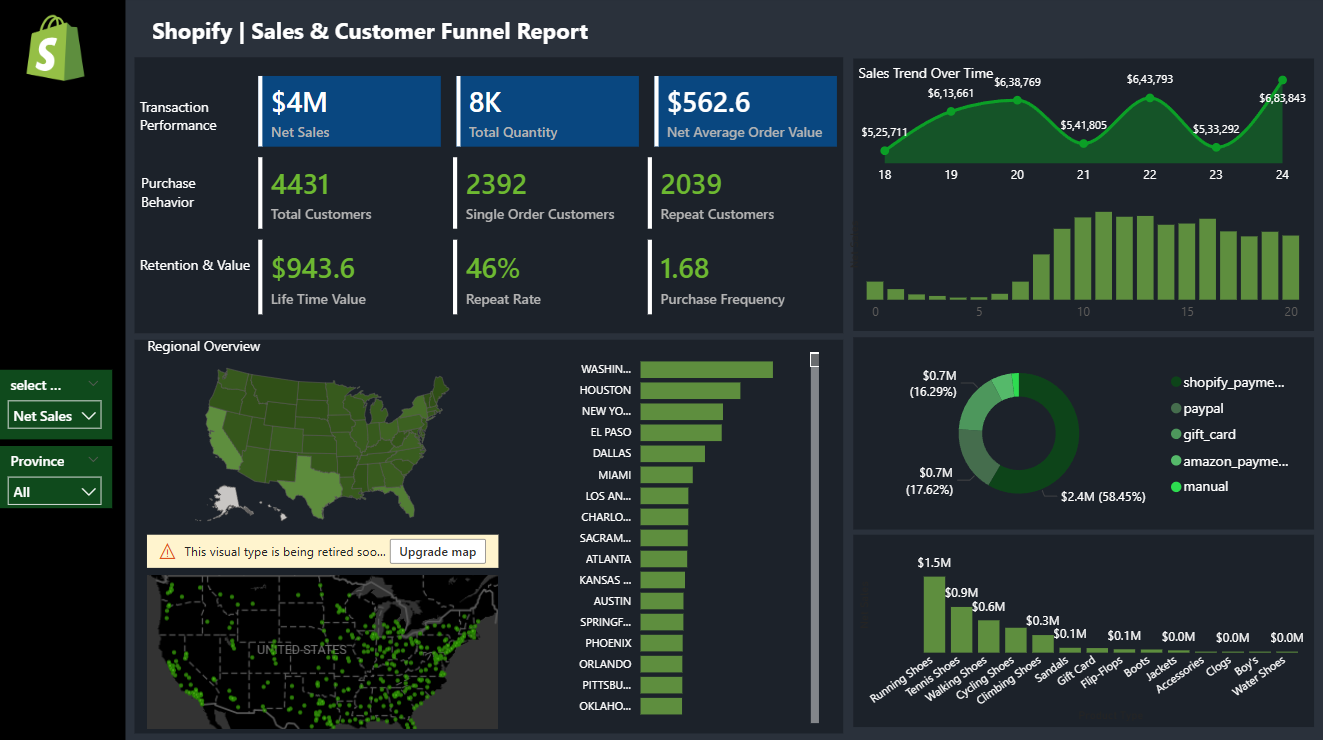

The dashboard page shown, as its layout file describes it:
{"tool":"powerbi","page":{"name":"Analysis","canvas":[1280,720],"ordinal":0},"visuals":[{"type":"shape","box":[0,0,124.3,720.2],"z":0},{"type":"textbox","box":[144.8,13.3,453.6,62.7],"z":1000},{"type":"shape","box":[132.7,59.1,684.1,266.6],"z":2000},{"type":"cardVisual","fields":{"Data":["Table1.Net Sales","Table1.Total Quantity","Table1.Net Average Order Value"]},"box":[247.3,72.4,569.4,78.4],"z":3000},{"type":"cardVisual","fields":{"Data":["Table1.Total Customers","Table1.Single Order Customers","Table1.Repeat Customers"]},"box":[247.3,150.8,561,79.6],"z":4000},{"type":"cardVisual","fields":{"Data":["Table1.Life Time Value","Table1.Repeat Rate","Table1.Purchase Frequency"]},"box":[247.3,230.4,561,82],"z":5000},{"type":"textbox","box":[132.7,92.9,114.6,48.3],"z":6000},{"type":"shape","box":[132.7,331.8,684.1,380],"z":6500},{"type":"textbox","box":[133.9,166.5,135.1,51.9],"z":7000},{"type":"textbox","box":[132.7,244.9,135.1,51.9],"z":8000},{"type":"shapeMap","fields":{"Value":["Table1.Net Sales"],"Category":["Table1.Billing Address Province"]},"box":[136.3,346.2,355.9,173.7],"z":10000},{"type":"slicer","fields":{"Values":["select measure .select measure "]},"box":[0,360.7,111,67.6],"z":11000},{"type":"map","fields":{"Category":["Table1.location"]},"box":[139.9,515.2,348.7,191.8],"z":12000},{"type":"clusteredBarChart","fields":{"Y":["Table1.Net Sales"],"Category":["Table1.CITY"]},"box":[545.3,331.8,253.4,375.2],"z":13000},{"type":"textbox","box":[139.9,323.3,219.6,36.2],"z":14000},{"type":"shape","box":[826.4,60.3,445.2,263],"z":15000},{"type":"areaChart","fields":{"Y":["Table1.Net Sales"],"Category":["Table1.Invoice Date.Variation.Date Hierarchy.Day"]},"box":[826.4,60.3,445.2,130.3],"z":16000},{"type":"columnChart","fields":{"Y":["Table1.Net Sales"],"Category":["Table1.Hour"]},"box":[816.8,172.5,445.2,150.8],"z":17000},{"type":"textbox","box":[826.4,60.3,187,51.9],"z":18000},{"type":"shape","box":[826.4,329.4,445.2,185.8],"z":19000},{"type":"donutChart","fields":{"Y":["Table1.Net Sales"],"Category":["Table1.Gateway"]},"box":[836.1,341.4,425.9,161.7],"z":20000},{"type":"shape","box":[826.4,520,445.2,185.8],"z":21000},{"type":"columnChart","fields":{"Y":["Table1.Net Sales"],"Category":["Table1.Product Type"]},"box":[826.4,527.2,445.2,178.6],"z":22000},{"type":"image","box":[15.7,13.3,82,73.6],"z":23000},{"type":"slicer","fields":{"Values":["Table1.Billing Address Province"]},"box":[0,434.3,111,60.3],"z":24000}]}

Visuals, with their boxes on the page's 1280x720 design canvas (x1, y1, x2, y2). These are canvas units, not pixel positions in the 1323x740 screenshot, which may show the page scaled, cropped or inside an application window:
shape: Rect(0, 0, 124, 720)
textbox: Rect(145, 13, 598, 76)
shape: Rect(133, 59, 817, 326)
cardVisual - Table1.Net Sales x Table1.Total Quantity: Rect(247, 72, 817, 151)
cardVisual - Table1.Total Customers x Table1.Single Order Customers: Rect(247, 151, 808, 230)
cardVisual - Table1.Life Time Value x Table1.Repeat Rate: Rect(247, 230, 808, 312)
textbox: Rect(133, 93, 247, 141)
shape: Rect(133, 332, 817, 712)
textbox: Rect(134, 166, 269, 218)
textbox: Rect(133, 245, 268, 297)
shapeMap - Table1.Net Sales x Table1.Billing Address Province: Rect(136, 346, 492, 520)
slicer - select measure .select measure : Rect(0, 361, 111, 428)
map - Table1.location: Rect(140, 515, 489, 707)
clusteredBarChart - Table1.Net Sales x Table1.CITY: Rect(545, 332, 799, 707)
textbox: Rect(140, 323, 360, 360)
shape: Rect(826, 60, 1272, 323)
areaChart - Table1.Net Sales x Table1.Invoice Date.Variation.Date Hierarchy.Day: Rect(826, 60, 1272, 191)
columnChart - Table1.Net Sales x Table1.Hour: Rect(817, 172, 1262, 323)
textbox: Rect(826, 60, 1013, 112)
shape: Rect(826, 329, 1272, 515)
donutChart - Table1.Net Sales x Table1.Gateway: Rect(836, 341, 1262, 503)
shape: Rect(826, 520, 1272, 706)
columnChart - Table1.Net Sales x Table1.Product Type: Rect(826, 527, 1272, 706)
image: Rect(16, 13, 98, 87)
slicer - Table1.Billing Address Province: Rect(0, 434, 111, 495)
